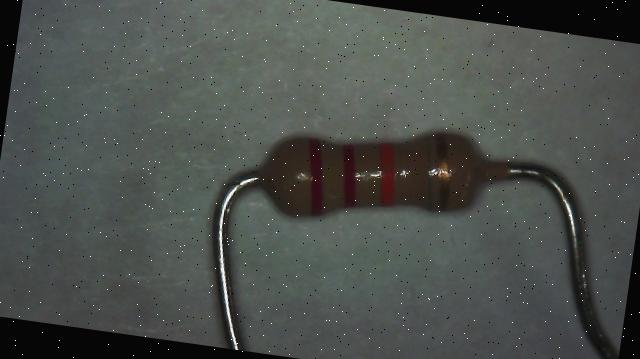gold: (428, 134, 458, 210)
orange: (370, 141, 402, 206)
red: (299, 138, 331, 216), (334, 144, 362, 208)
resistor: (259, 118, 511, 225)
